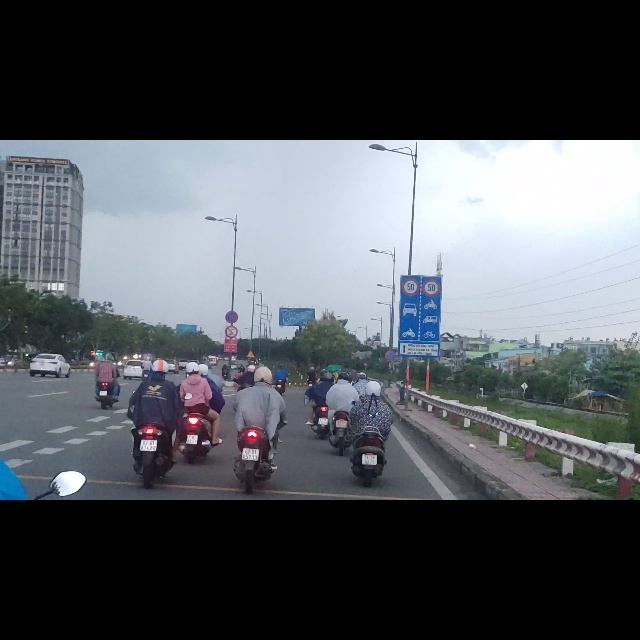bien_cam: (401, 244, 420, 277), (423, 245, 440, 278), (225, 302, 238, 327), (225, 329, 238, 353), (384, 372, 396, 393), (246, 373, 255, 388)
